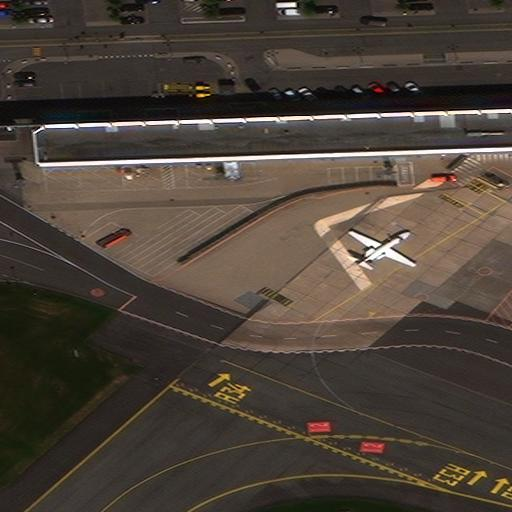Medium Civil Transport: (349, 228, 415, 264)
